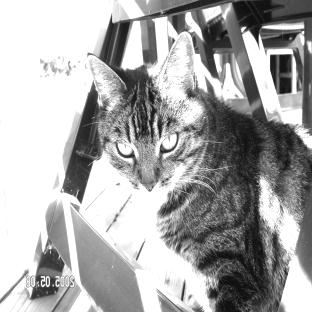Animal: (87, 32, 312, 312)
